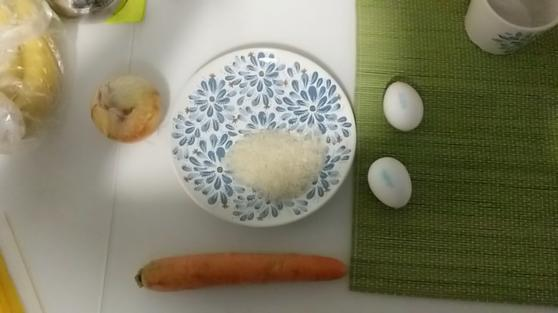carrot: (123, 246, 376, 292)
egg: (371, 63, 434, 151), (365, 153, 422, 215)
onion: (84, 67, 167, 146)
rice: (225, 120, 332, 204)
